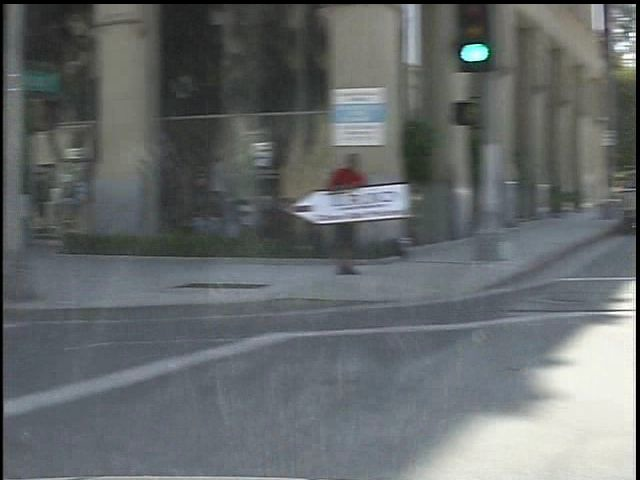person: (315, 142, 359, 278)
